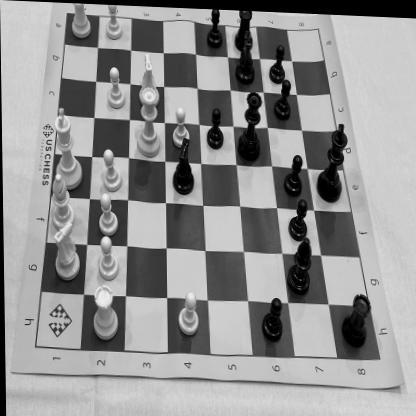black-bishop: (282, 234, 314, 294)
black-king: (313, 114, 349, 202)
black-knight: (171, 134, 196, 198), (234, 26, 256, 85)
black-pawn: (257, 291, 282, 343), (282, 149, 306, 196), (286, 194, 309, 241), (272, 74, 294, 119), (267, 38, 287, 84), (206, 103, 226, 149), (204, 7, 224, 50)
black-queen: (236, 86, 264, 162)
black-rook: (336, 288, 372, 346), (233, 8, 256, 52)
white-bishop: (48, 172, 76, 230)
white-king: (50, 106, 82, 190)
white-knight: (48, 219, 80, 282), (137, 49, 161, 104)
white-pawn: (95, 233, 121, 282), (176, 287, 200, 339), (98, 146, 124, 192), (94, 190, 119, 235), (170, 102, 192, 148), (105, 64, 127, 109), (103, 4, 125, 42)
white-queen: (134, 84, 164, 158)
white-rook: (89, 282, 118, 340), (67, 2, 93, 40)
